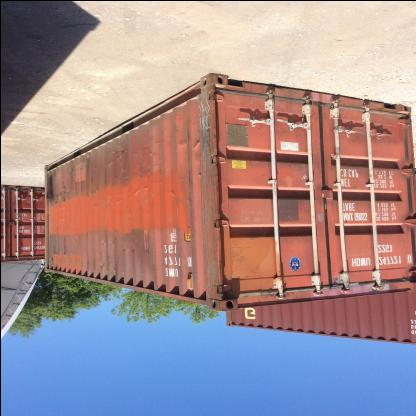Damage: (199, 72, 222, 294), (87, 186, 142, 228), (184, 135, 198, 236), (240, 285, 312, 304), (230, 236, 260, 278), (46, 162, 68, 204), (70, 153, 86, 199), (49, 219, 66, 255), (101, 140, 112, 186), (113, 132, 129, 162), (94, 231, 118, 250), (119, 230, 135, 254), (113, 166, 134, 184), (171, 125, 185, 147), (88, 146, 96, 183), (142, 225, 152, 253), (134, 165, 152, 180), (52, 256, 78, 265), (142, 140, 154, 158), (144, 182, 154, 198), (96, 255, 104, 271), (105, 268, 125, 274), (164, 188, 176, 198), (172, 111, 184, 121), (132, 151, 138, 156)
